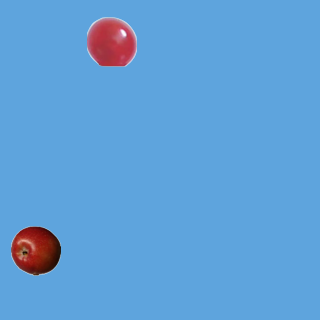Apple Braeburn: (10, 225, 60, 275)
Redcurrant: (86, 16, 136, 66)
